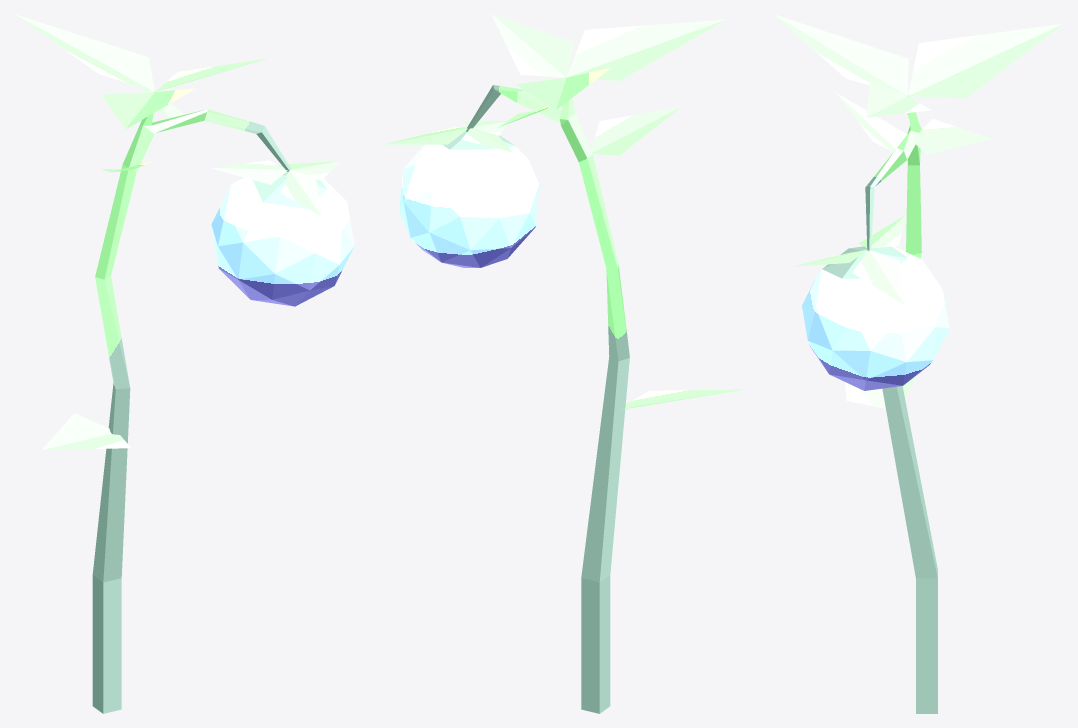
The model's file is water_plant.glb.
3 renders of one model, left to right at view 1: azimuth 30°, elevation 25°; view 2: azimuth 150°, elevation 25°; view 3: azimuth 270°, elevation 25°, orthographic. The views are drawn at different scales.
Parts seen in each view (by area): view 1: Cube, Icosphere, Plane.007, Plane, Plane.006, Plane.005, Plane.003, Plane.008, Plane.004; view 2: Cube, Icosphere, Plane.006, Plane.008, Plane.001, Plane.007, Plane, Plane.004, Plane.003; view 3: Icosphere, Cube, Plane.007, Plane.006, Plane.004, Plane.002, Plane.008, Plane.001, Plane, Plane.003.
Part boxes in pixels (box(x1,y1,x2,y2)): Cube: box(92, 91, 291, 713); Icosphere: box(211, 164, 354, 306); Plane.007: box(15, 14, 154, 91); Plane: box(41, 413, 130, 450); Plane.006: box(101, 88, 195, 129); Plane.005: box(281, 170, 321, 216); Plane.003: box(210, 160, 287, 184); Plane.008: box(155, 58, 268, 91); Plane.004: box(288, 161, 339, 180); Cube: box(466, 77, 629, 713); Icosphere: box(399, 131, 539, 267); Plane.006: box(566, 19, 725, 80); Plane.008: box(491, 14, 573, 77); Plane.001: box(591, 107, 680, 155); Plane.007: box(516, 67, 611, 109); Plane: box(621, 389, 743, 409); Plane.004: box(385, 127, 467, 144); Plane.003: box(461, 128, 512, 152); Icosphere: box(802, 246, 949, 390); Cube: box(865, 95, 937, 713); Plane.007: box(908, 23, 1063, 98); Plane.006: box(773, 14, 908, 95); Plane.004: box(852, 250, 904, 305); Plane.002: box(913, 118, 991, 154); Plane.008: box(866, 81, 931, 117); Plane.001: box(836, 93, 906, 151); Plane: box(845, 375, 916, 408); Plane.003: box(858, 215, 906, 248).
Size of the model in its own units: 5.25 by 9.92 by 3.89.
